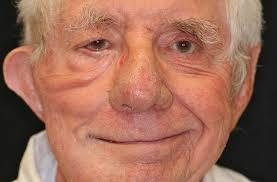strokeEyeSevere: (63, 14, 229, 67)
